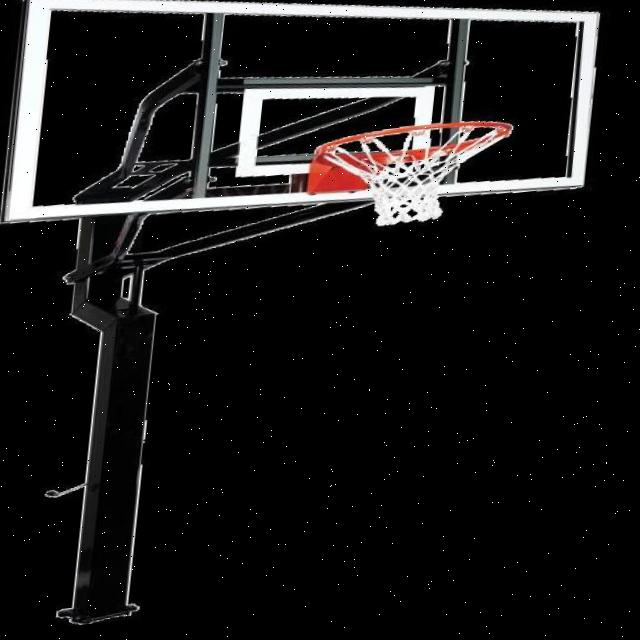hoop: (307, 115, 513, 233)
